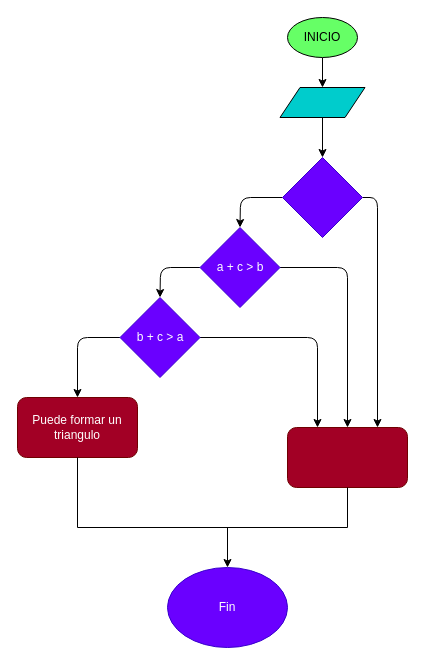
Some shapes in this 425 by 665 pixel diagram are drawn without their labels. Here are the shapes that lost their labels. From the top down, the box of each, then its label:
(279, 86, 365, 118): a, b, c
(282, 156, 362, 238): a + b > c
(286, 426, 408, 488): No puede formar un triangulo
